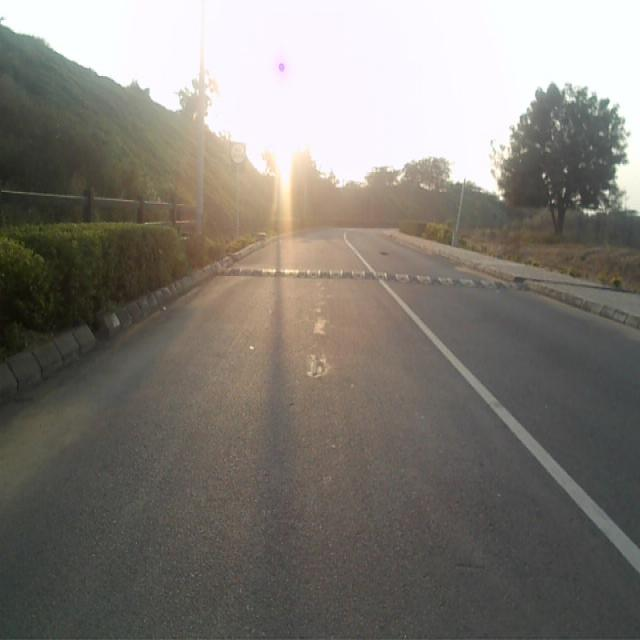lane: (0, 231, 640, 640)
